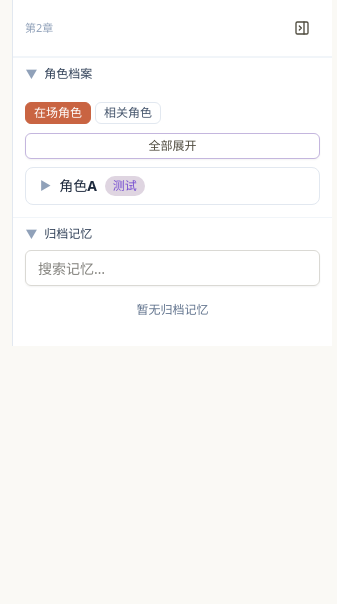
Test: SandboxCharacterPanel › 默认展示在场角色 tab 与角色卡，支持全部展开/折叠
The width and height of the screenshot is (337, 604).
Expected: the tab "在场角色" is shown, 25,102 -> 91,124
Expected: the text "第2章" is shown, 25,20 -> 53,36
Click the button "全部展开" at coordinates (172, 146), box 25,133 -> 320,159
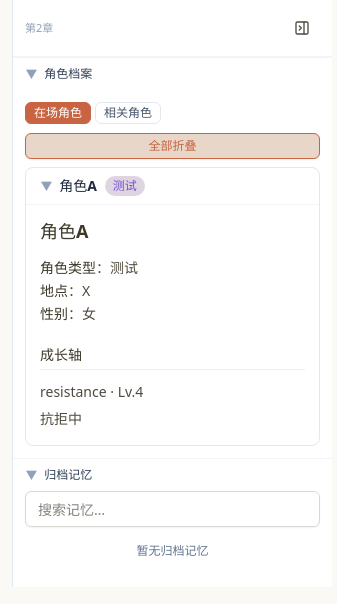
Expected: the text "抗拒中" is shown, 40,409 -> 82,428
Click the button "全部折叠" at coordinates (172, 146), box 25,133 -> 320,159
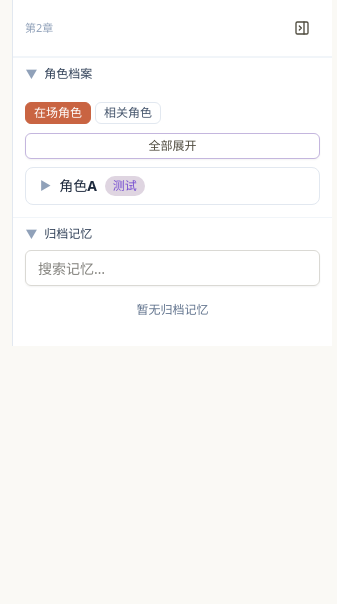
Expected: the text "抗拒中" is gone
